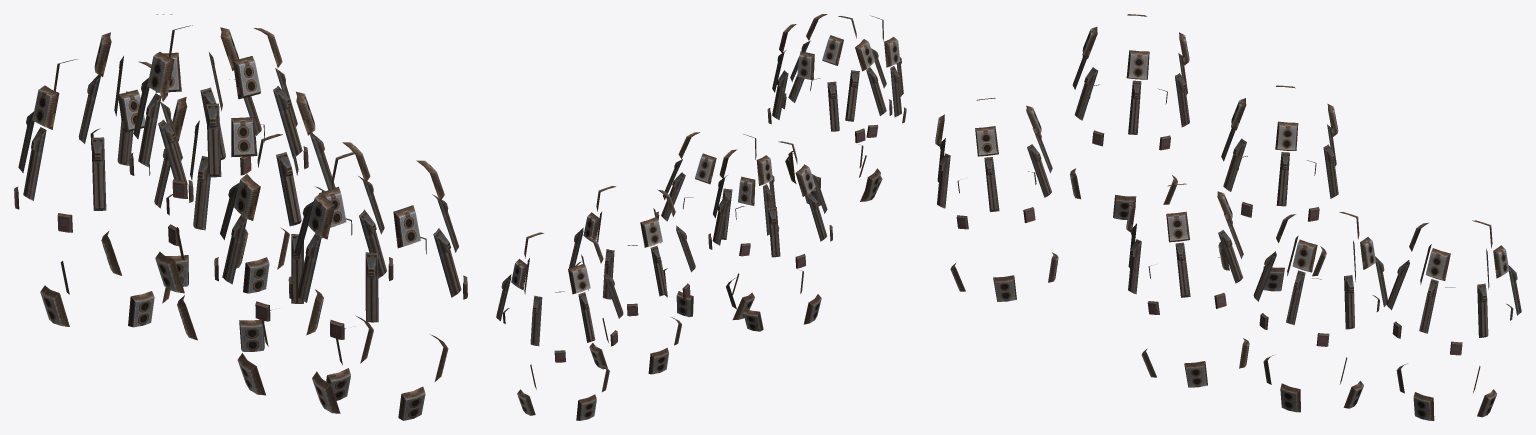
File: prop_static_yao_container_01_07.glb
The picture shows the model from 3 angles, left to right: view 1: azimuth 30°, elevation 25°; view 2: azimuth 150°, elevation 25°; view 3: azimuth 270°, elevation 25°; orthographic projection. The views are drawn at different scales.
Parts seen in each view (by area): view 1: yao_container_01_07_LOD0; view 2: yao_container_01_07_LOD0; view 3: yao_container_01_07_LOD0.
Part boxes in pixels (left/top/right/bottom): yao_container_01_07_LOD0: left=14, top=14, right=467, bottom=420; yao_container_01_07_LOD0: left=496, top=14, right=906, bottom=420; yao_container_01_07_LOD0: left=935, top=14, right=1521, bottom=420.
Size of what is drawn, in the model's own units: 4.49 by 5.35 by 9.01.
Materials: 1 (1 with a texture image).
